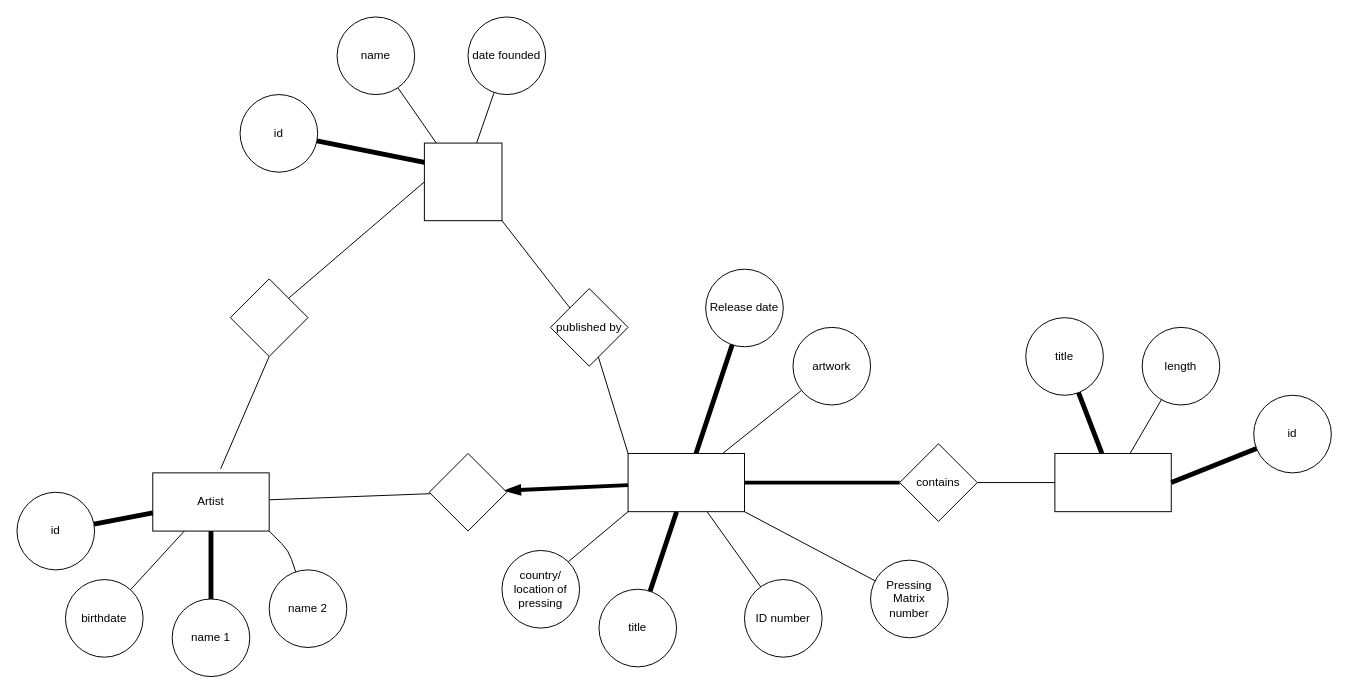
Image size: 1348x694. Some labels were removed from this diagram. Each missing label, with the box of its shape:
Album: (627, 453, 744, 512)
creates: (428, 453, 507, 531)
Publishing Label: (423, 142, 502, 221)
song: (1054, 453, 1171, 512)
works for: (229, 278, 308, 356)
